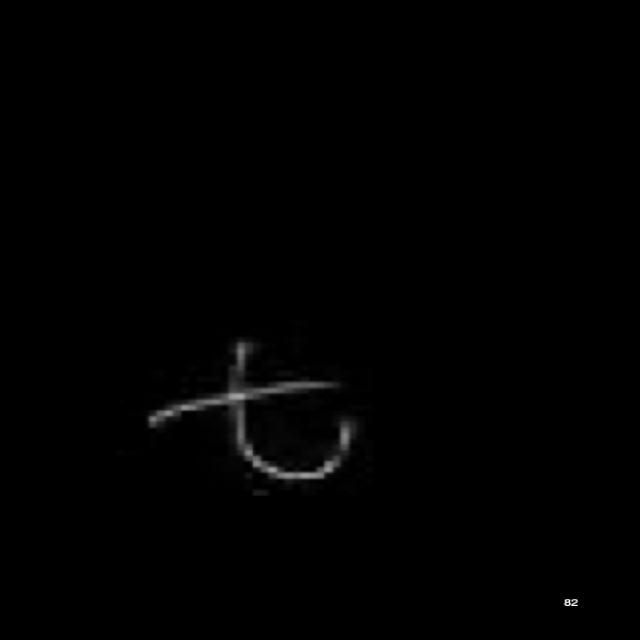7 -seven-: (134, 331, 368, 496)
